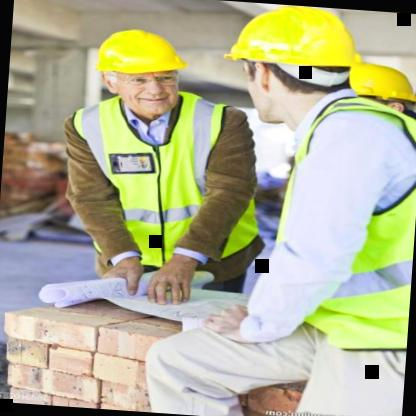helmet: (225, 1, 361, 130), (92, 27, 192, 124), (318, 59, 416, 130)
